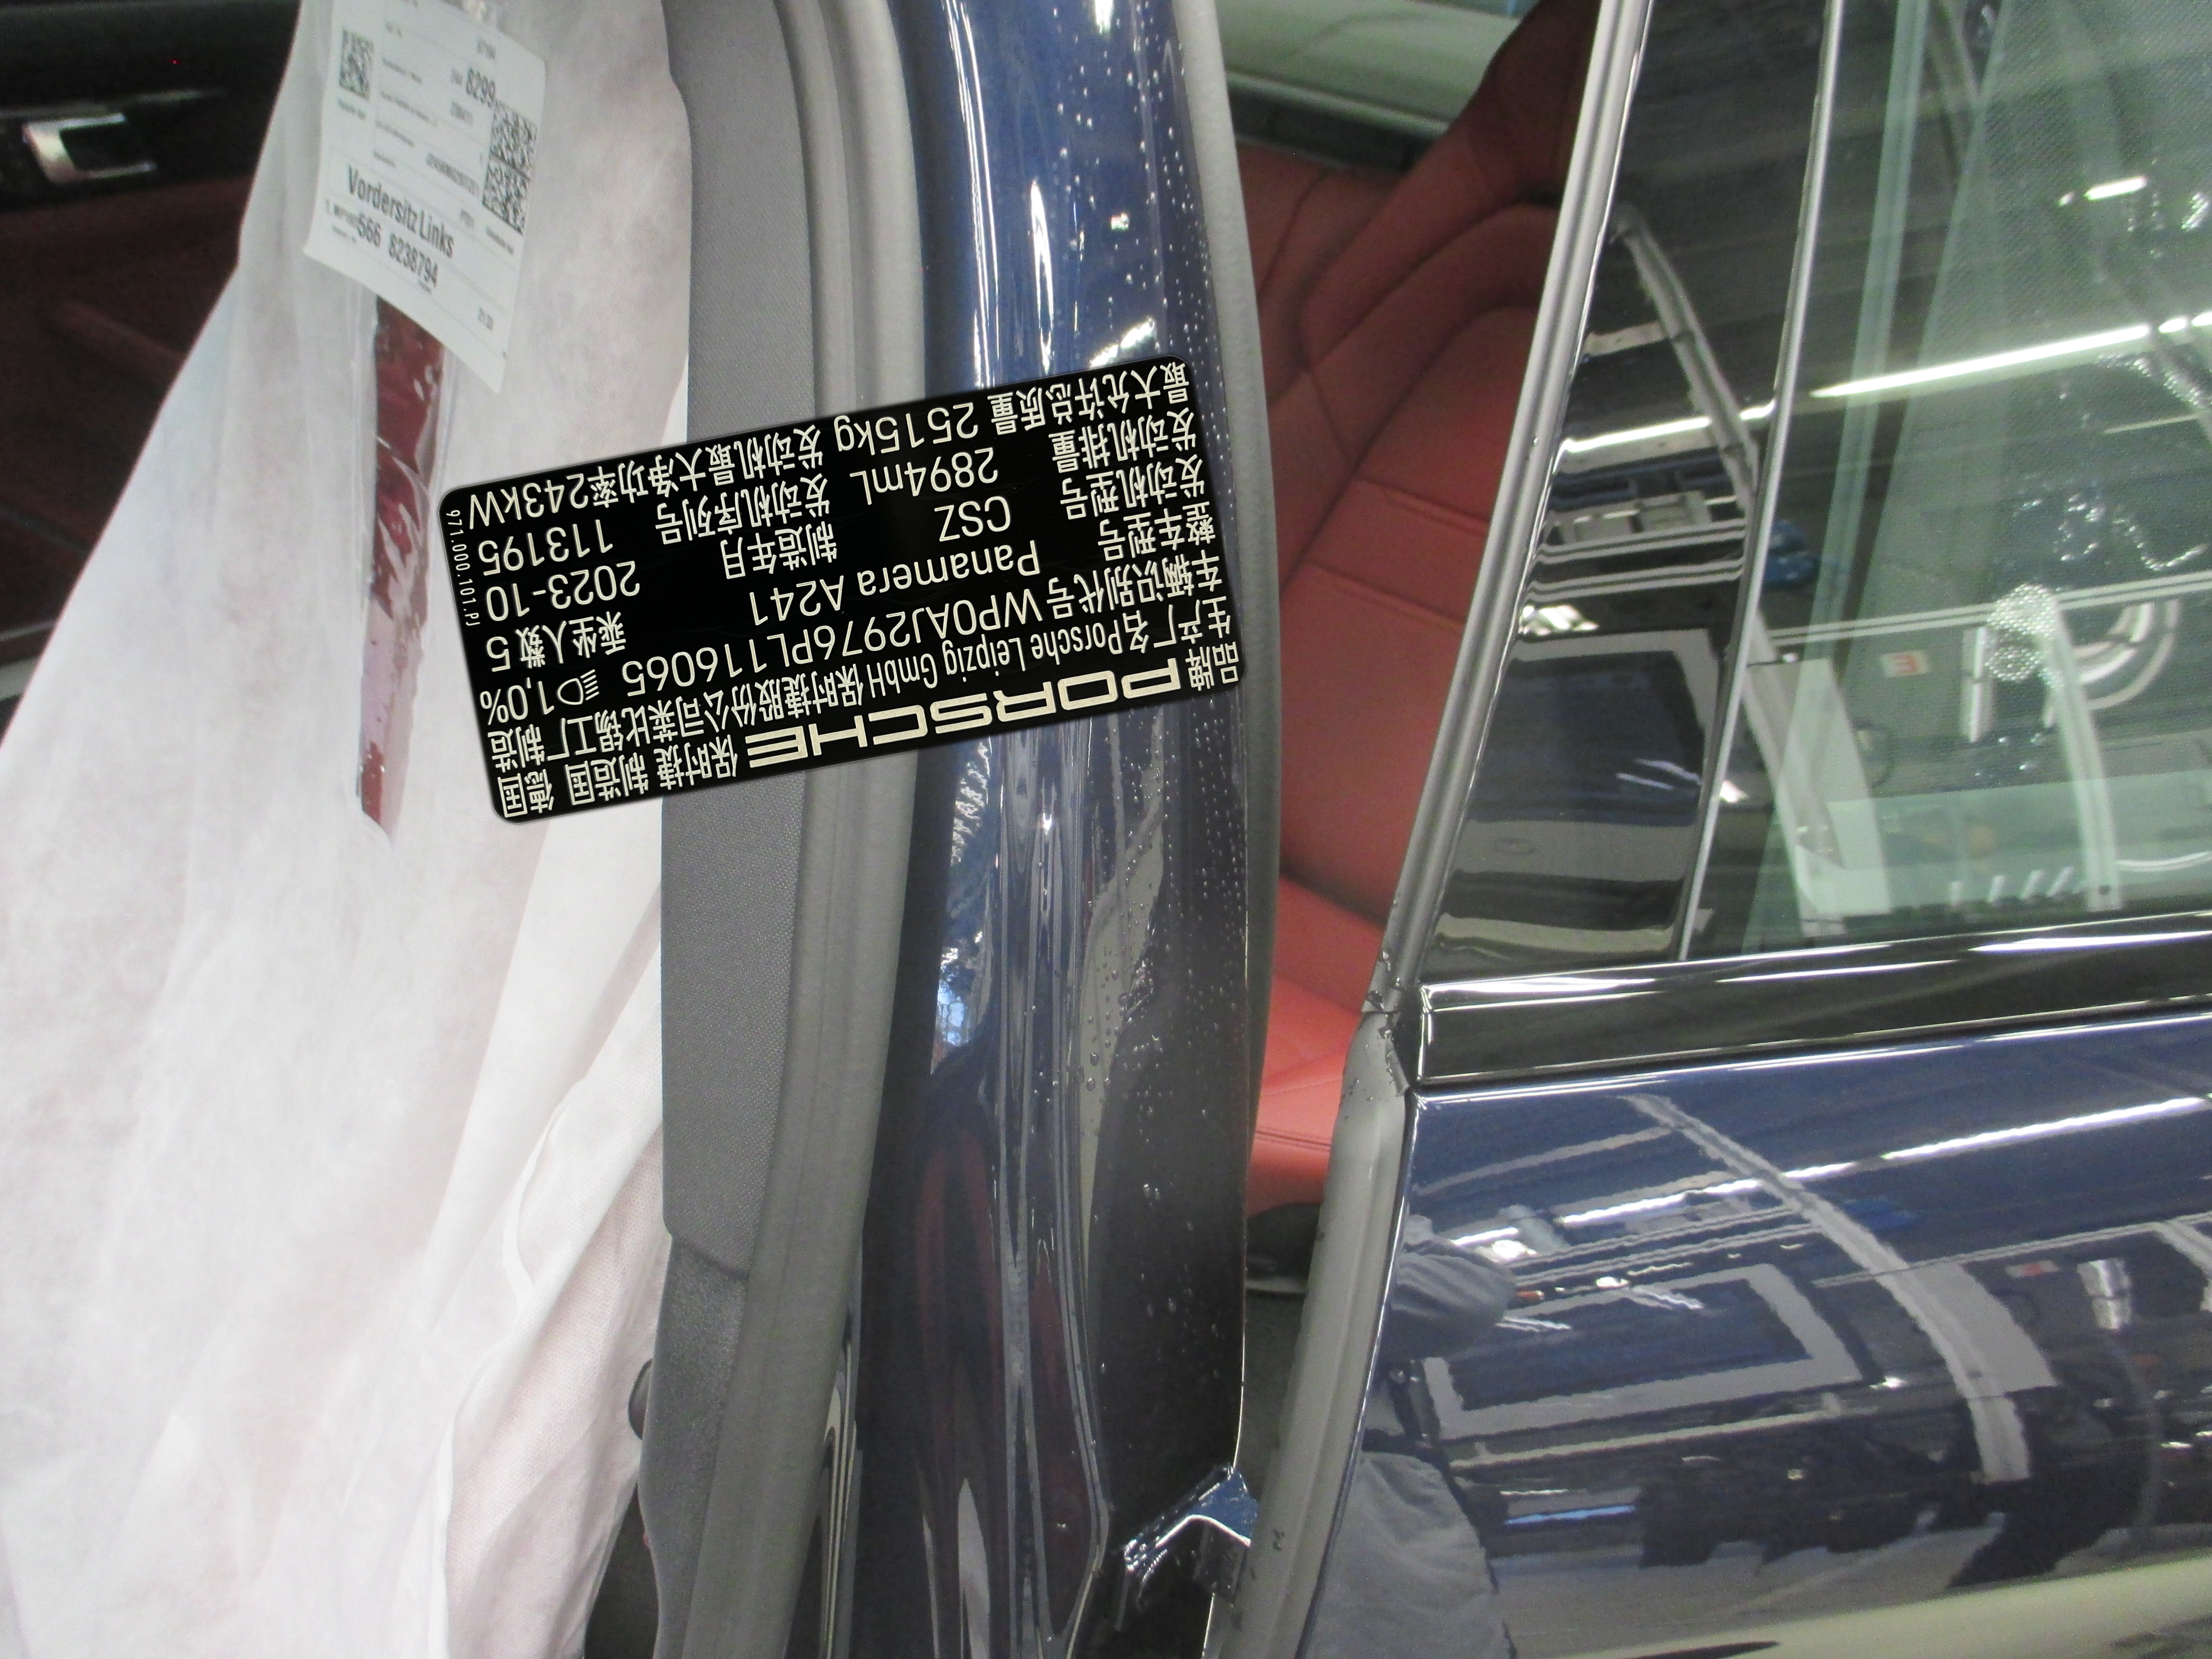Typlabel-China: (437, 355, 1245, 823)
